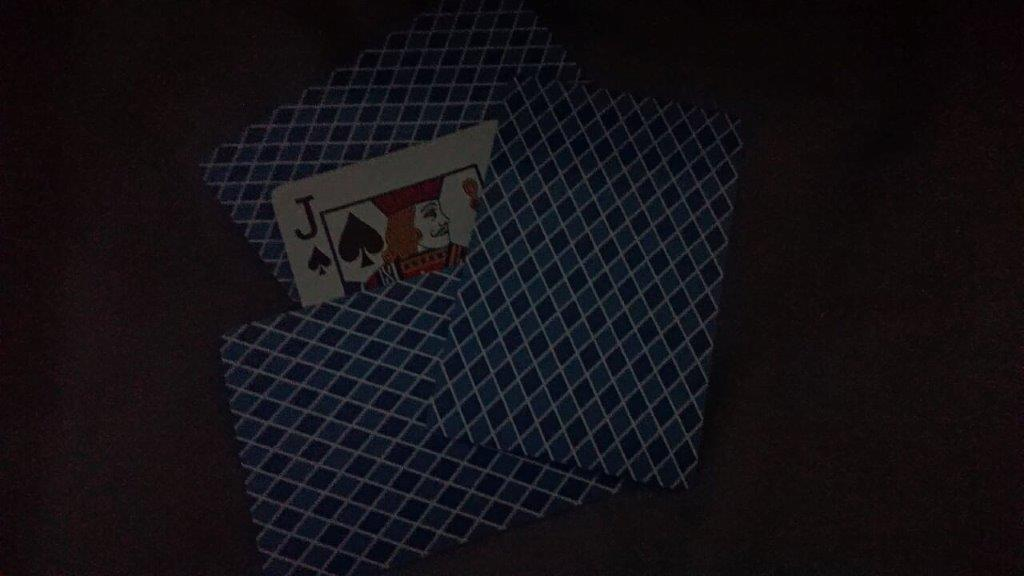BACK: (423, 66, 747, 495), (216, 272, 423, 576), (327, 1, 590, 72)
JS: (269, 128, 460, 261)
